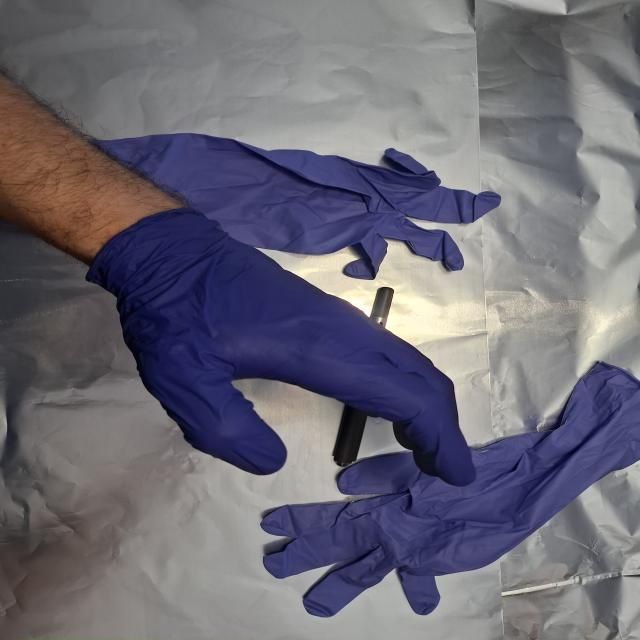glove_on: (94, 211, 480, 488)
